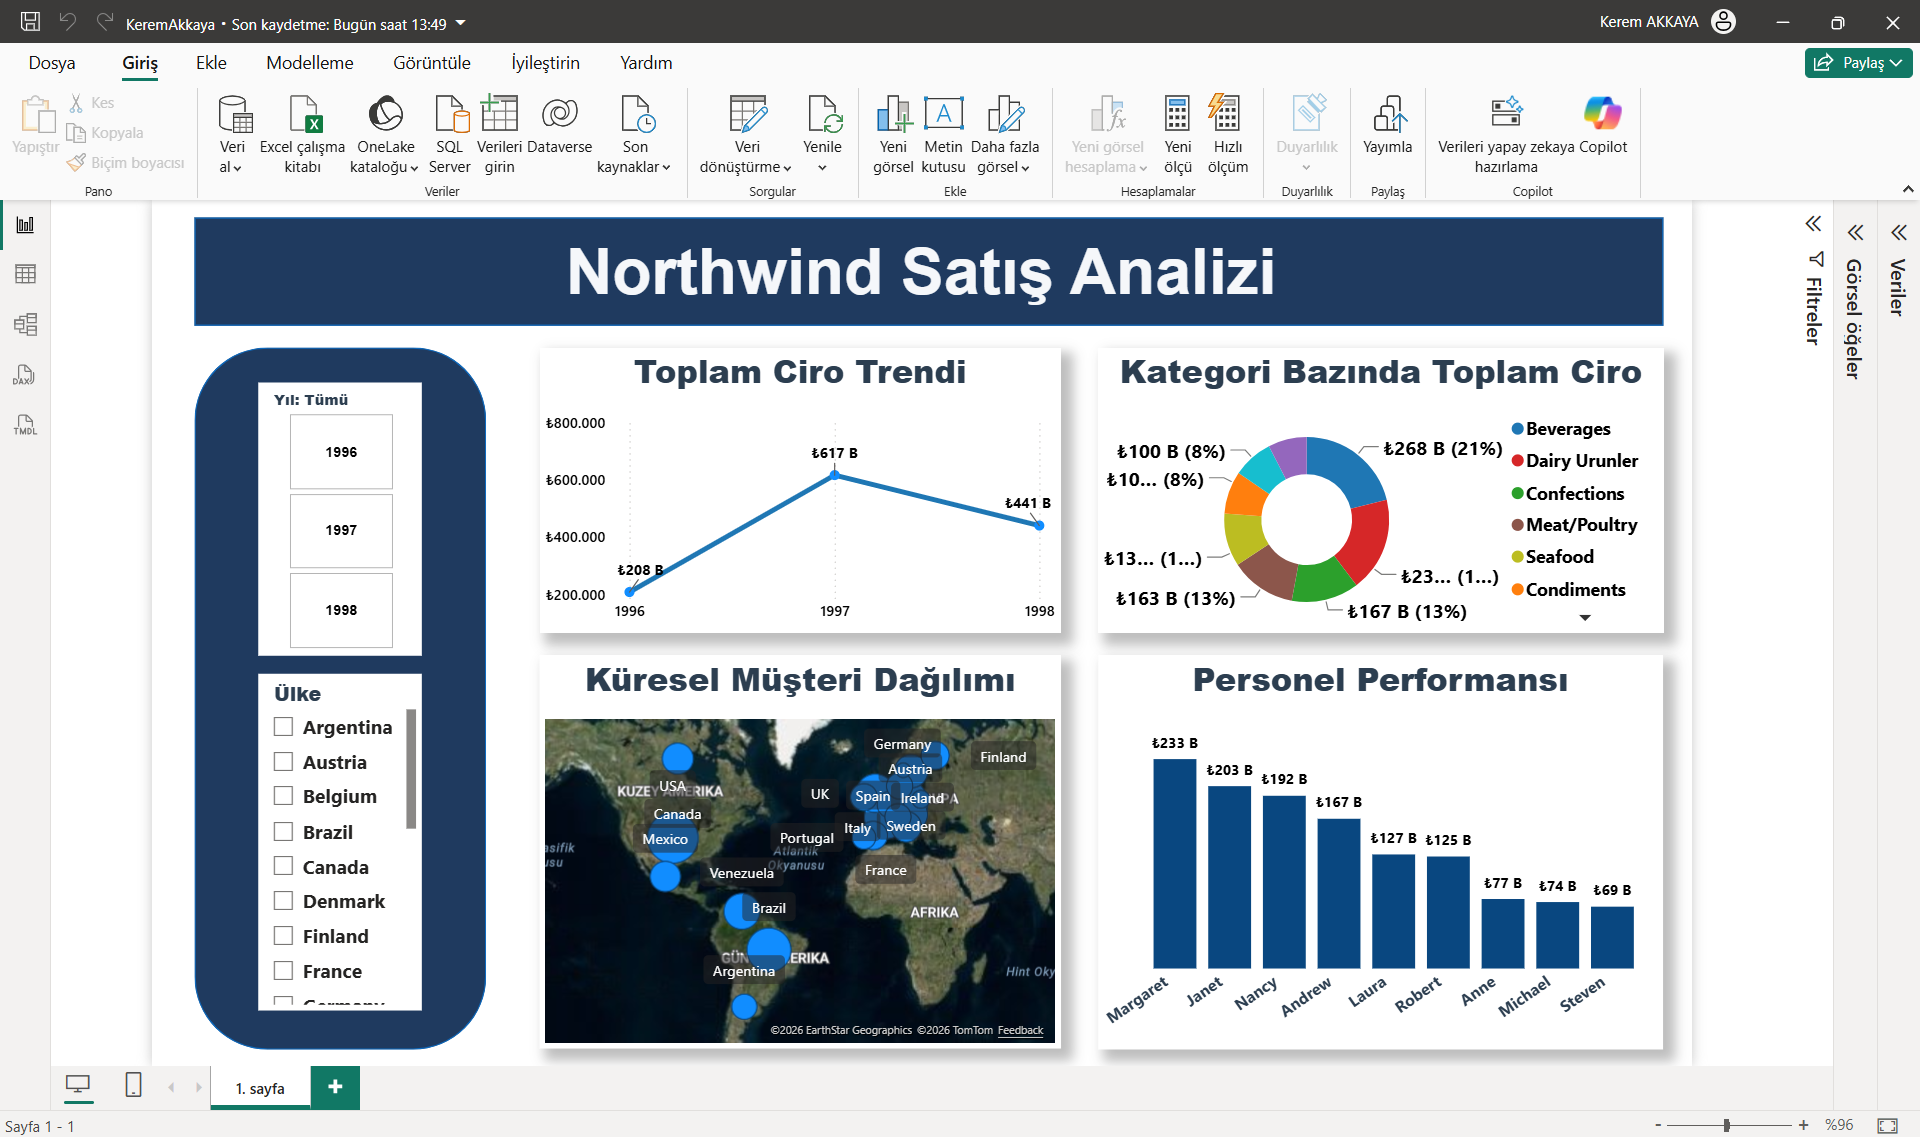

The page's visual inventory and layout, read from the dashboard file:
{"tool":"powerbi","page":{"name":"1. sayfa","canvas":[1280,720],"ordinal":0},"visuals":[{"type":"shape","box":[35,122.5,242.5,583.8],"z":0},{"type":"shape","box":[35,15,1221.2,90],"z":1000},{"type":"textbox","box":[322.5,7.5,634.7,88.9],"z":2000},{"type":"lineChart","title":"Toplam Ciro Trendi","fields":{"Category":["Satislar.SatisTarihi.Varyasyon.Date Hierarchy.Year","Satislar.SatisTarihi.Varyasyon.Date Hierarchy.Month"],"Y":["Ölçüler.Toplam Ciro"]},"box":[322.5,122.5,433.8,237.5],"z":3000},{"type":"donutChart","title":"Kategori Bazında Toplam Ciro","fields":{"Category":["Kategoriler.KategoriAdi"],"Y":["Ölçüler.Toplam Ciro"]},"box":[786.2,122.5,470,237.5],"z":4000},{"type":"clusteredColumnChart","title":"Personel Performansı","fields":{"Category":["Personeller.Adi","Personeller.SoyAdi"],"Y":["Ölçüler.Toplam Ciro"]},"box":[786.6,378.8,469.4,327.7],"z":5000},{"type":"azureMap","title":"Küresel Müşteri Dağılımı","fields":{"Category":["Musteriler.Ulke"],"Size":["Ölçüler.Toplam Sipariş Sayısı"]},"box":[322.5,378.8,433.8,327.5],"z":6000},{"type":"slicer","fields":{"Values":["Satislar.SatisTarihi.Varyasyon.Date Hierarchy.Year"]},"box":[88.8,151.2,136.2,227.5],"z":7000},{"type":"slicer","fields":{"Values":["Musteriler.Ulke"]},"box":[88.8,393.8,136.2,280],"z":8000}]}

Visuals, with their boxes on the page's 1280x720 design canvas (x1, y1, x2, y2). These are canvas units, not pixel positions in the 1920x1137 screenshot, which may show the page scaled, cropped or inside an application window:
shape: 35/122/278/706
shape: 35/15/1256/105
textbox: 322/8/957/96
"Toplam Ciro Trendi" lineChart: 322/122/756/360
"Kategori Bazında Toplam Ciro" donutChart: 786/122/1256/360
"Personel Performansı" clusteredColumnChart: 787/379/1256/706
"Küresel Müşteri Dağılımı" azureMap: 322/379/756/706
slicer - Satislar.SatisTarihi.Varyasyon.Date Hierarchy.Year: 89/151/225/379
slicer - Musteriler.Ulke: 89/394/225/674
